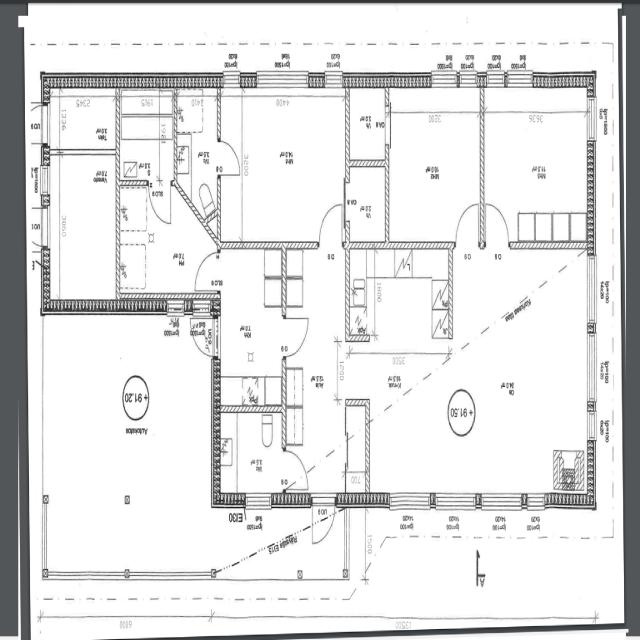door: (281, 310, 312, 362), (483, 197, 512, 250), (452, 197, 482, 247), (310, 497, 338, 549), (316, 199, 345, 248), (192, 247, 219, 295), (281, 446, 309, 492), (148, 179, 173, 227), (216, 136, 242, 178), (191, 316, 214, 356), (323, 49, 344, 86), (222, 54, 240, 88)
window: (254, 69, 311, 95), (583, 325, 599, 411), (387, 489, 435, 515), (434, 488, 481, 514), (477, 488, 524, 514), (584, 252, 599, 331), (57, 145, 114, 161), (40, 495, 51, 567), (504, 67, 535, 92), (428, 68, 460, 92), (584, 92, 598, 145), (584, 401, 598, 446), (243, 491, 274, 511), (40, 202, 52, 251), (522, 489, 548, 511), (41, 102, 52, 148), (39, 162, 52, 200), (164, 297, 185, 317)
zone: (286, 245, 450, 495), (451, 244, 590, 497), (219, 91, 347, 247), (482, 86, 592, 245), (387, 85, 478, 245), (216, 252, 285, 409), (50, 152, 118, 310), (215, 410, 287, 502), (174, 91, 222, 216), (120, 89, 175, 184), (53, 88, 118, 154), (345, 163, 387, 249), (346, 84, 388, 166), (190, 315, 214, 358)
